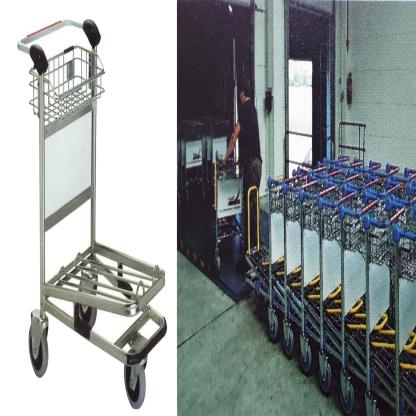airport-trolley: (16, 17, 168, 411), (242, 154, 416, 416), (245, 166, 307, 317), (178, 108, 233, 220), (209, 154, 250, 277)
